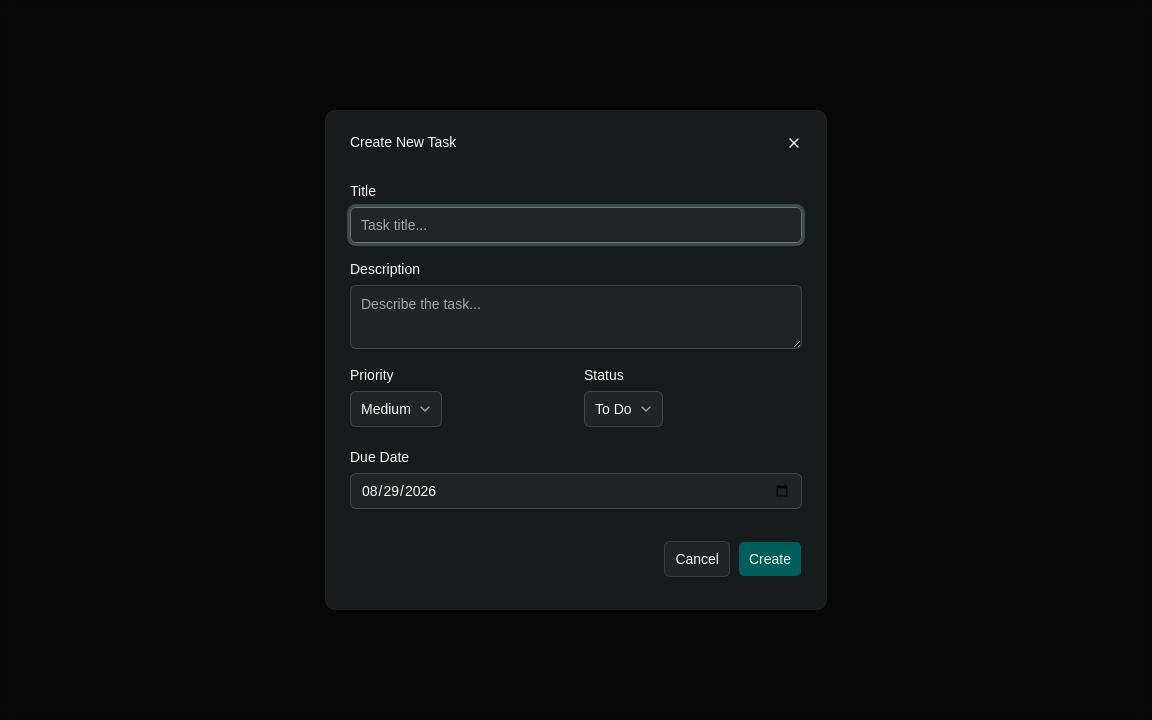
TaskModal Component › shows validation error when submitting empty title
// Click submit without entering a title
What coordinates should you click on to do the following:
click the button "Create"
I would click on:
 (770, 559)
Its box is left=738, top=541, right=802, bottom=577.
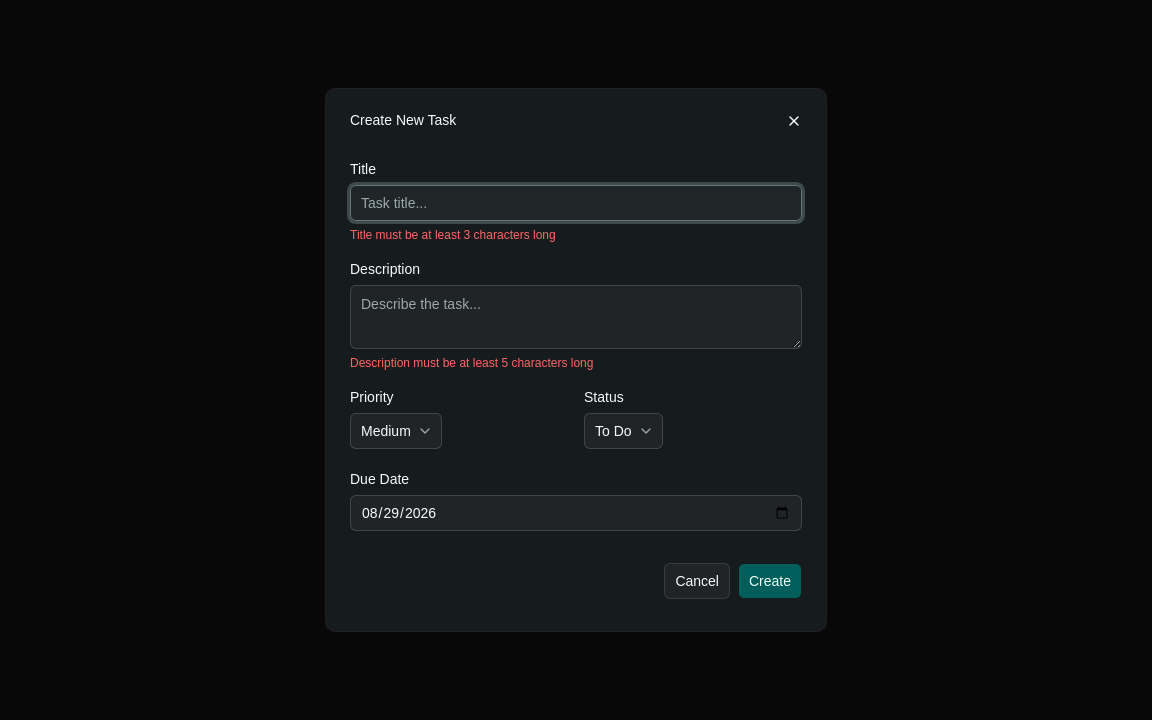
Expected: the text "Title must be at least 3 characters long" is shown, left=350, top=228, right=556, bottom=242
